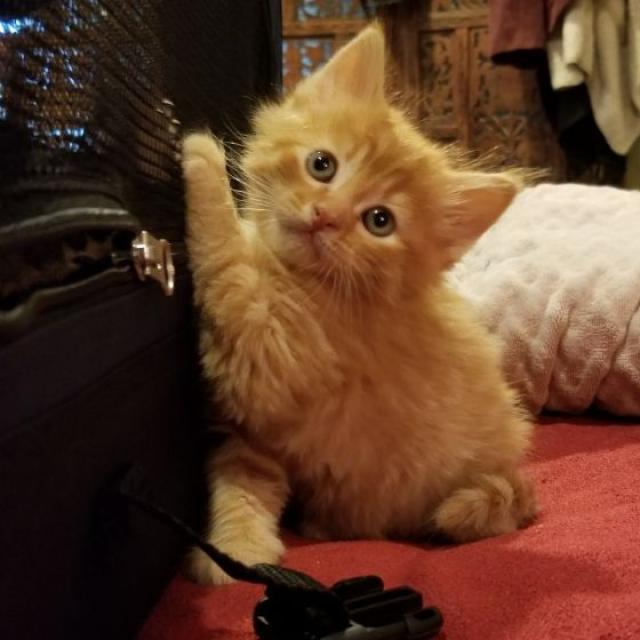domestic_long_hair_cat: (232, 18, 525, 302)
